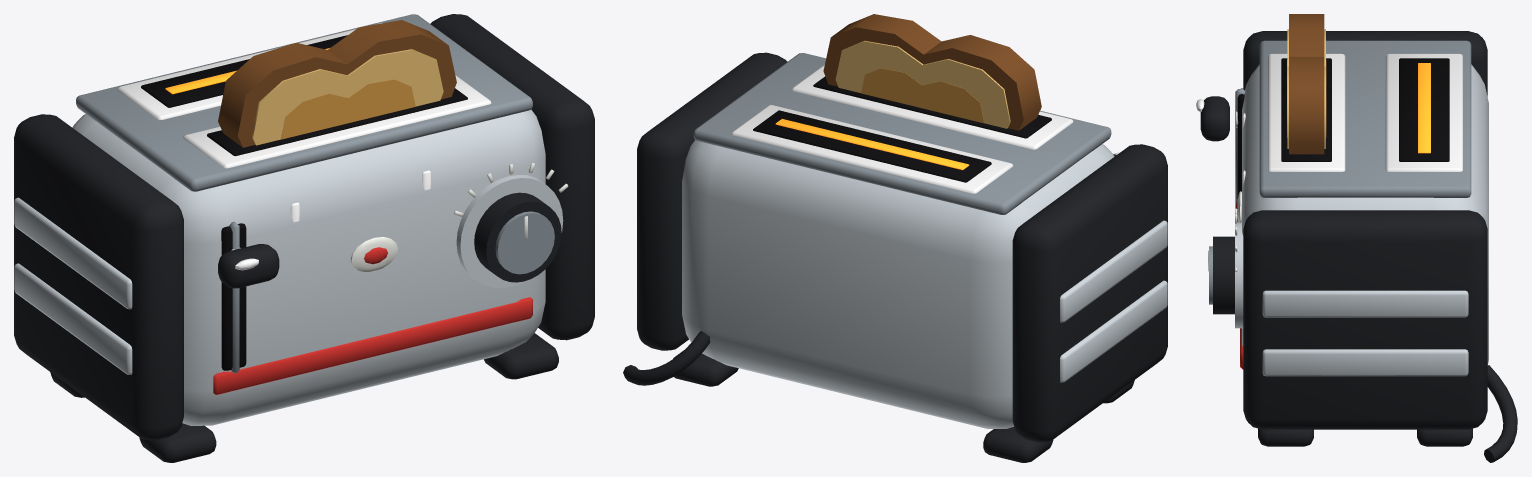
File: toaster.glb
3 views of the same model, side by side, from view 1: azimuth 30°, elevation 25°; view 2: azimuth 150°, elevation 25°; view 3: azimuth 270°, elevation 25° (orthographic). The views are drawn at different scales.
Parts seen in each view (by area): view 1: Toaster; view 2: Toaster; view 3: Toaster.
Part boxes in pixels (bbox=[...]): Toaster: bbox=[14, 14, 594, 462]; Toaster: bbox=[623, 14, 1167, 462]; Toaster: bbox=[1196, 14, 1517, 462].
Bounding box in the file's own units: 8.2 × 6 × 5.46.
